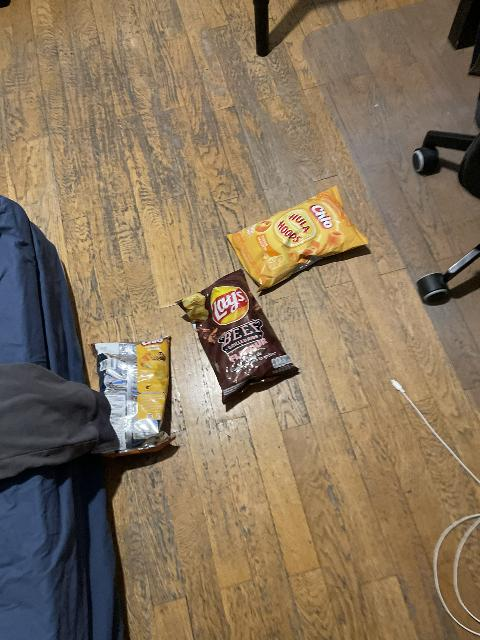Chio Cascaval 125g: (89, 334, 177, 450)
Chio Hula Hoops Cheese 70g: (223, 188, 364, 290)
Lays Beef Grilled Ribs 125g: (186, 274, 307, 393)
